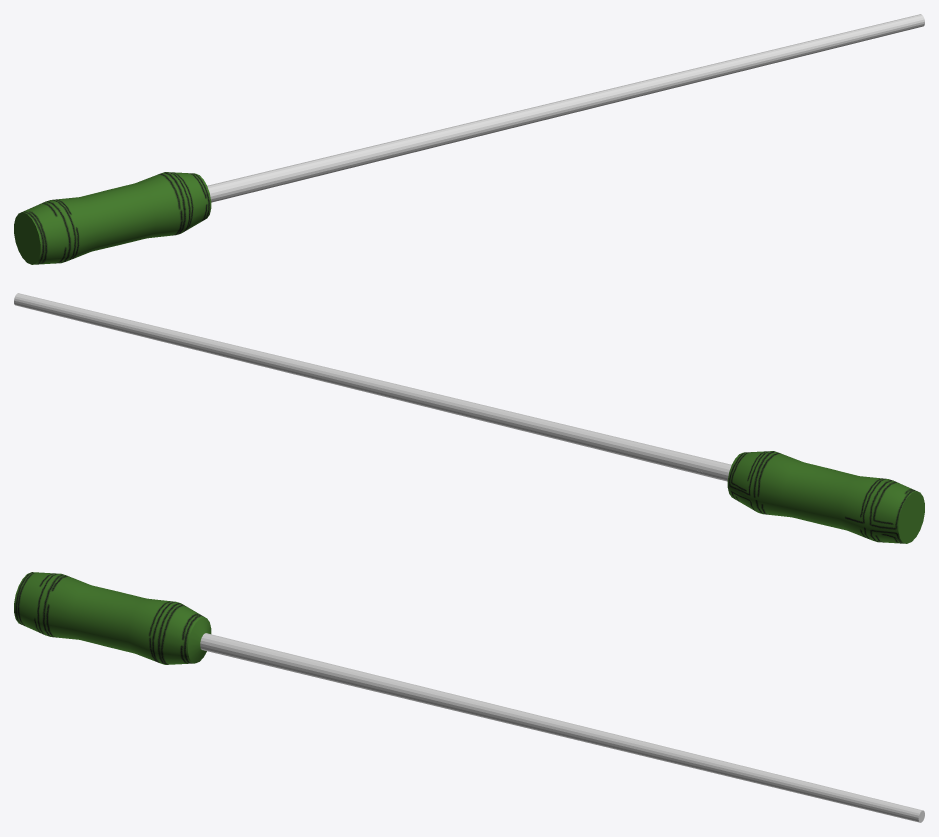
Rendered from Screwdriver2.FBX.
3 renders of one model, top to bottom at view 1: azimuth 30°, elevation 25°; view 2: azimuth 150°, elevation 25°; view 3: azimuth 330°, elevation 25°, orthographic.
Visible parts, largest first — view 1: Screwdriver2; view 2: Screwdriver2; view 3: Screwdriver2.
Part boxes in pixels (x1=…): Screwdriver2: x1=14, y1=14, x2=924, y2=264; Screwdriver2: x1=14, y1=293, x2=924, y2=543; Screwdriver2: x1=14, y1=572, x2=924, y2=822.
Bounding box in the file's own units: 14.3 × 0.8951 × 0.8815.
Materials: 1 (1 with a texture image).
